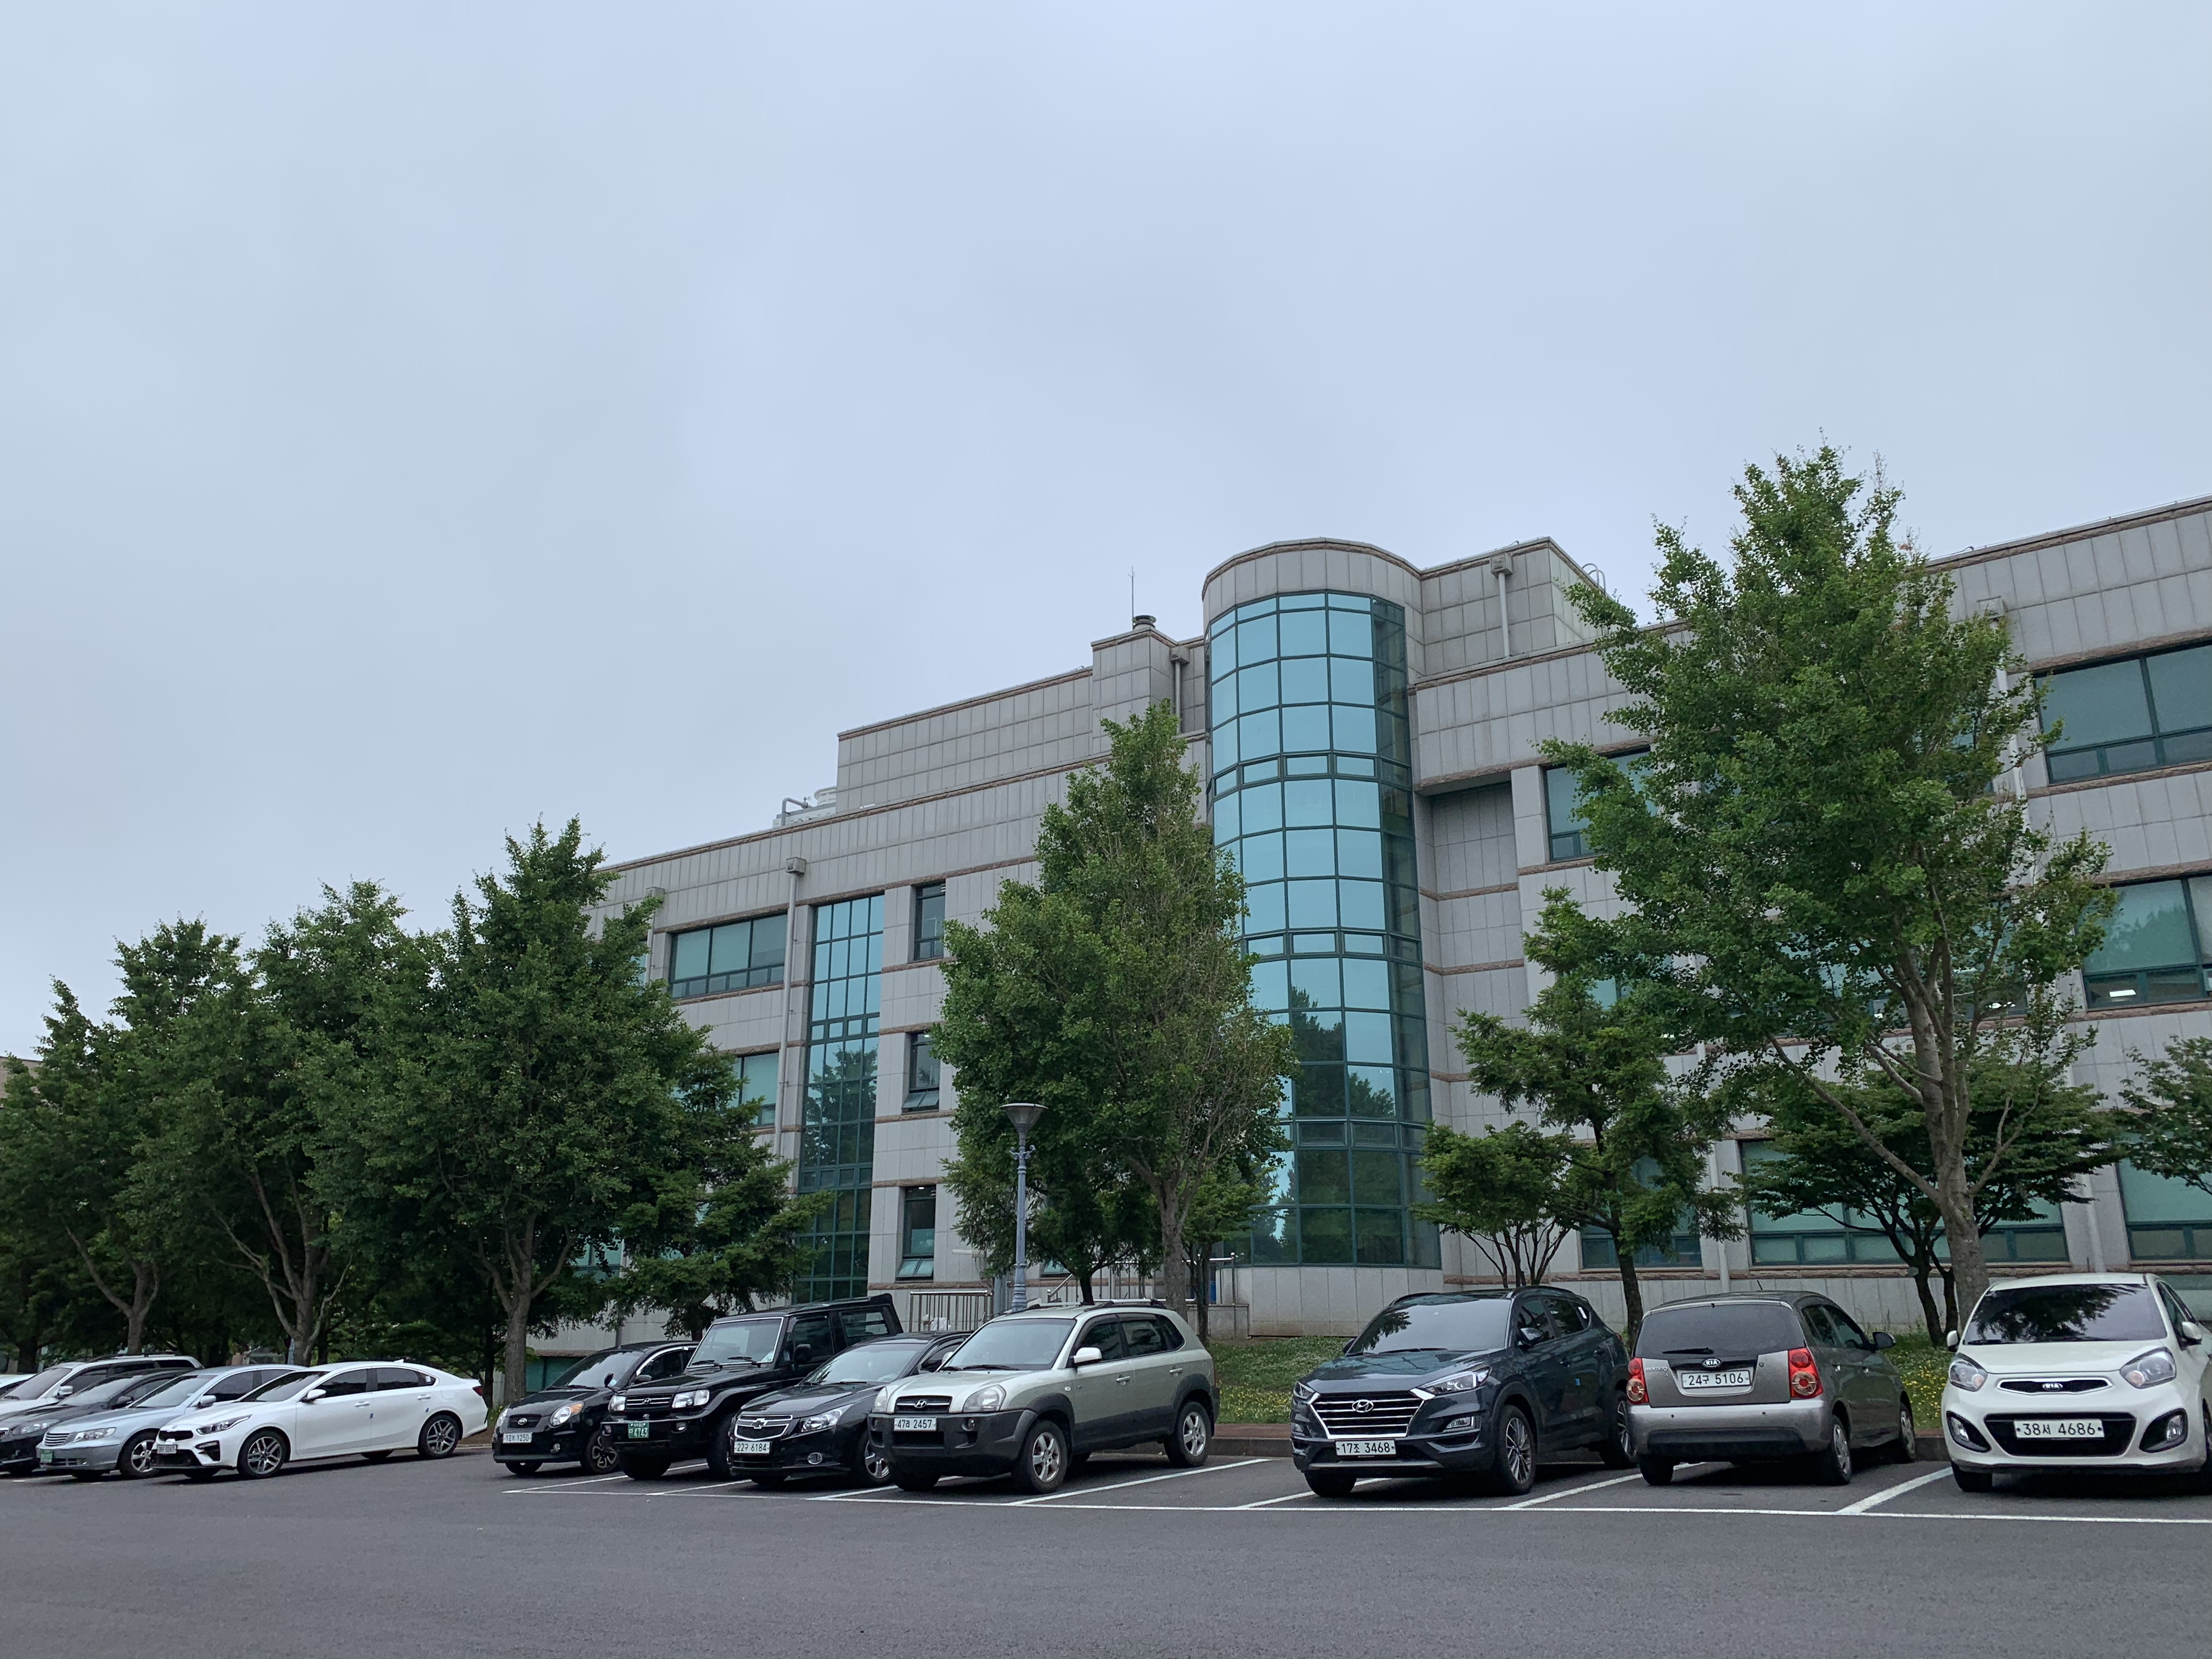Second Library: (488, 533, 2205, 1260)
